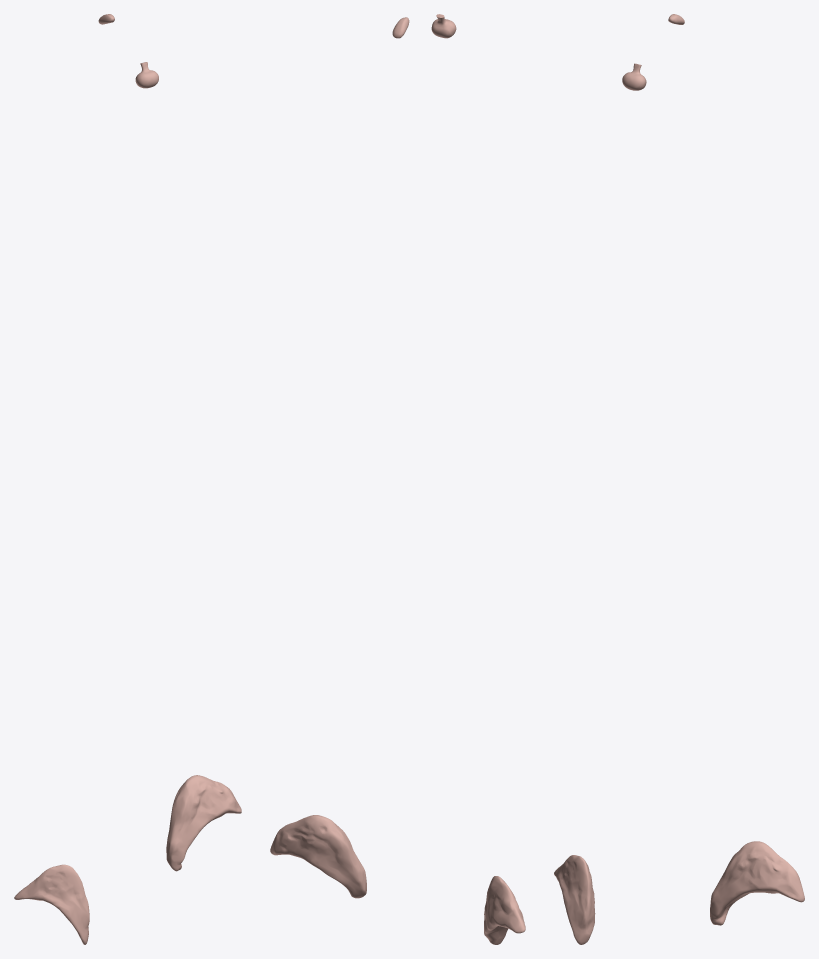
The model's file is glands.glb.
3 views of the same model, side by side, from view 1: azimuth 30°, elevation 25°; view 2: azimuth 150°, elevation 25°; view 3: azimuth 330°, elevation 25° (orthographic). The views are drawn at different scales.
Parts seen in each view (by area): view 1: bp3d_FMA15630_FJ3129, bp3d_FMA15629_FJ3130; view 2: bp3d_FMA15630_FJ3129, bp3d_FMA15629_FJ3130; view 3: bp3d_FMA15630_FJ3129, bp3d_FMA15629_FJ3130.
Part boxes in pixels (x1=…): bp3d_FMA15630_FJ3129: x1=166, y1=775, x2=241, y2=871; bp3d_FMA15629_FJ3130: x1=14, y1=864, x2=89, y2=944; bp3d_FMA15630_FJ3129: x1=270, y1=815, x2=366, y2=898; bp3d_FMA15629_FJ3130: x1=484, y1=876, x2=525, y2=944; bp3d_FMA15630_FJ3129: x1=710, y1=841, x2=804, y2=925; bp3d_FMA15629_FJ3130: x1=554, y1=855, x2=595, y2=944.
Bounding box in the file's own units: 0.138 × 0.5024 × 0.0514.
